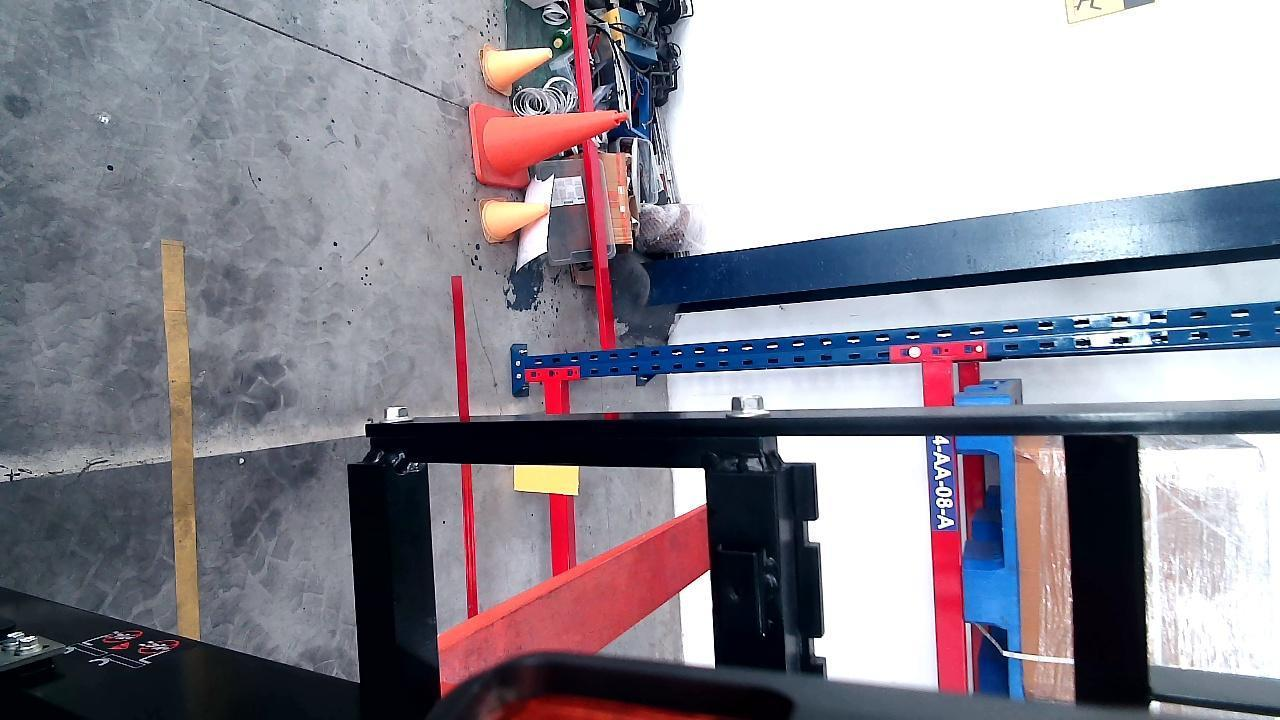h_rack: (924, 396, 969, 698)
orange_strip: (515, 464, 577, 493)
red_line: (448, 266, 475, 411)
small_pallet: (959, 427, 1021, 697)
yellow_line: (168, 234, 198, 640)
